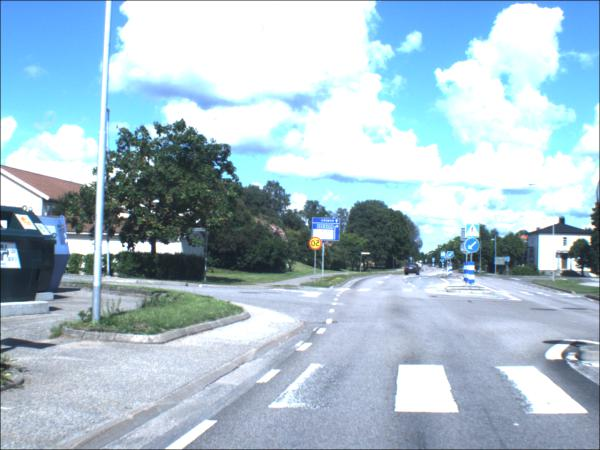50_SIGN: (309, 237, 323, 252)
PASS_RIGHT_SIDE: (464, 240, 480, 255), (447, 253, 455, 261), (440, 259, 446, 265)
PEDESTRIAN_CROSSING: (465, 226, 480, 240), (441, 253, 446, 258)
